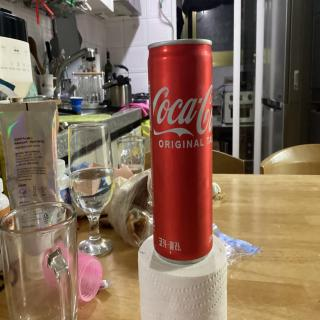cocacola: (146, 35, 218, 266)
